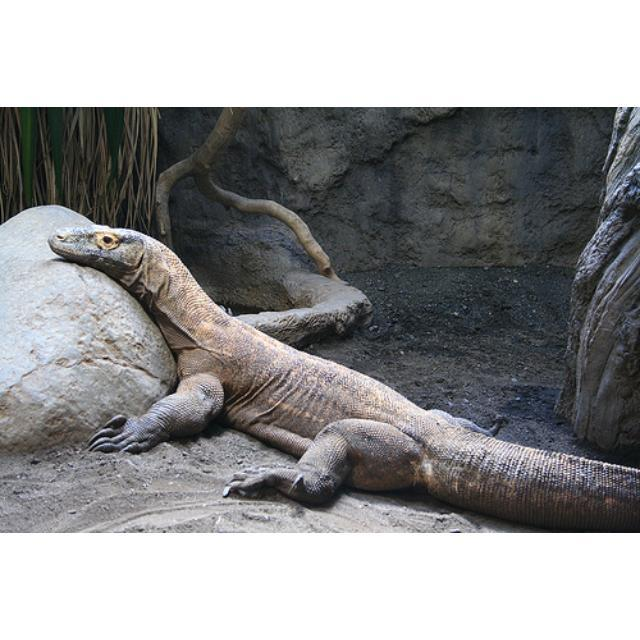KomodoDragon: (47, 228, 637, 531)
